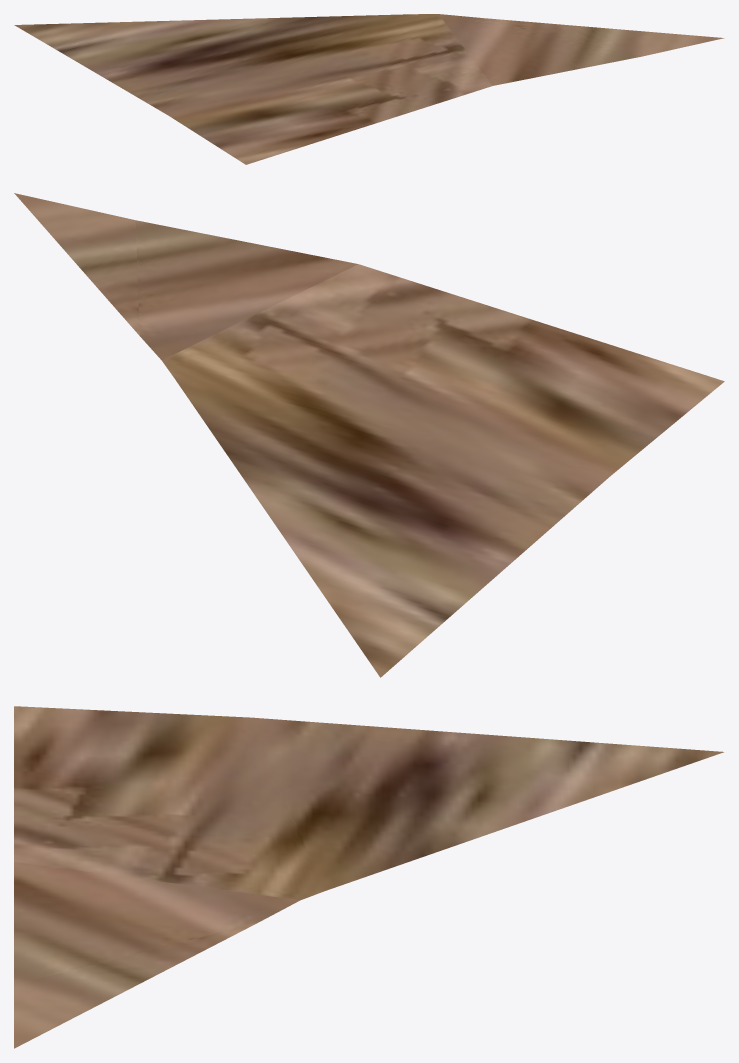
3 renders of one model, top to bottom at view 1: azimuth 30°, elevation 25°; view 2: azimuth 150°, elevation 25°; view 3: azimuth 270°, elevation 25°, orthographic. The views are drawn at different scales.
Size of the model in its own units: 0.5546 by 0.0539 by 0.4655.
1 material, 1 textured.
